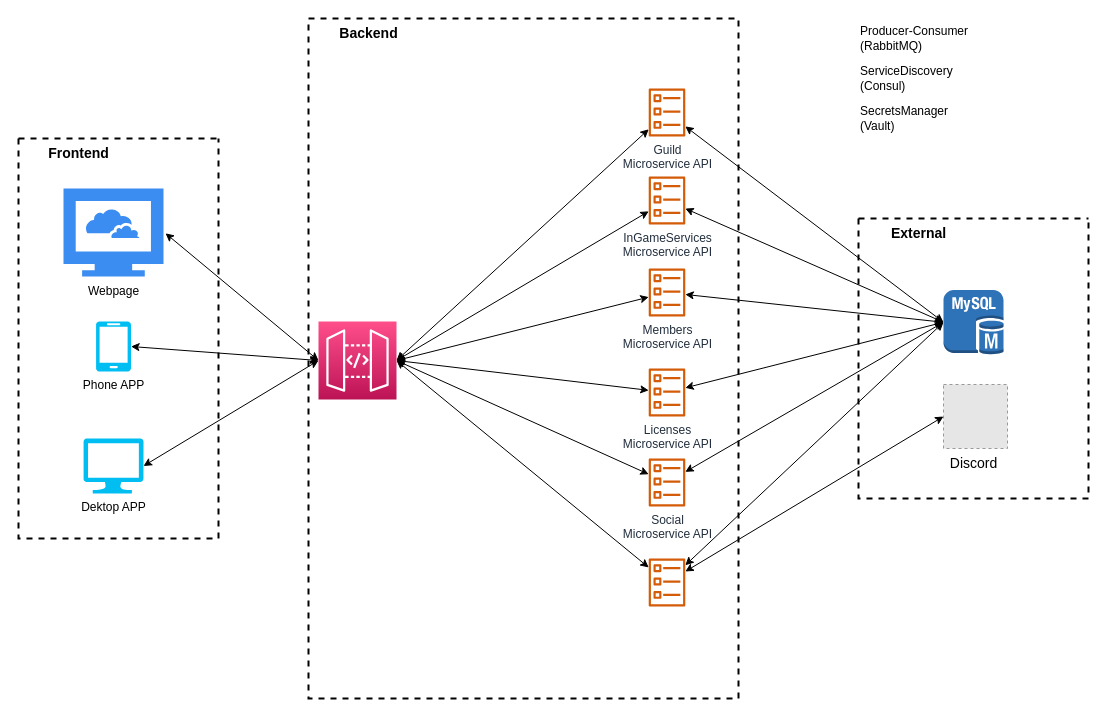
The diagram is 1106 pixels wide and 716 high, and some of its shapes have lost their labels. Grey dashed boxes stand in for pictures. The shapes that lost their labels are listed below. From the top down, each one's centre as x and y in pixels, then its label:
At (x=357, y=360): "API Gateway (YARP)".
At (x=666, y=582): "Mandri Microservice API".
